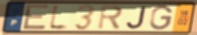3: (73, 4, 99, 32)
E: (22, 3, 51, 31)
G: (149, 5, 175, 31)
J: (125, 6, 148, 30)
L: (47, 3, 70, 32)
R: (97, 5, 125, 31)
